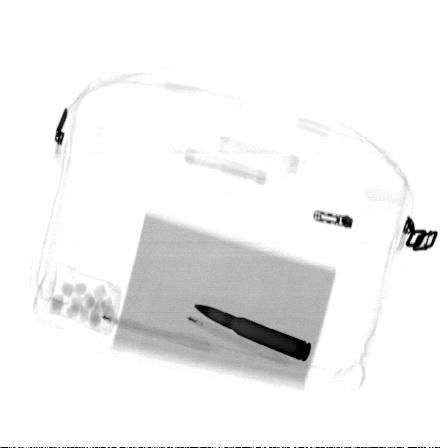Bullet: (193, 304, 312, 364)
